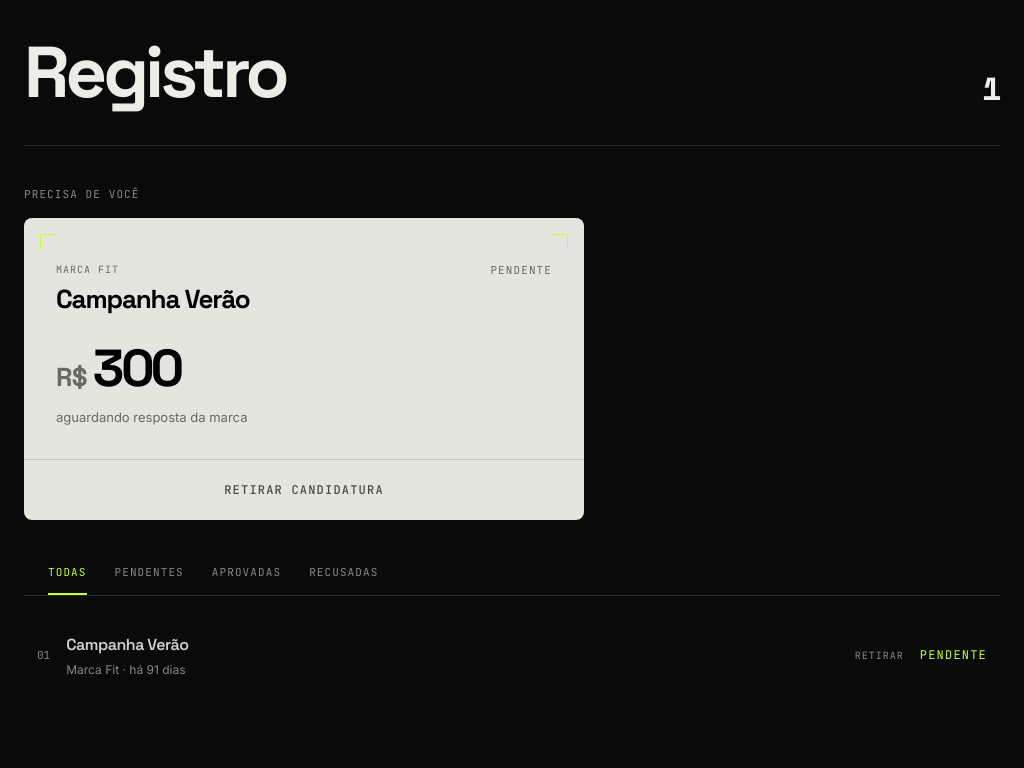
MyApplicationsPage › falha ao retirar mantém a confirmação aberta com o erro
Click the button "Retirar candidatura" at (304, 490), box 24,460 -> 584,520
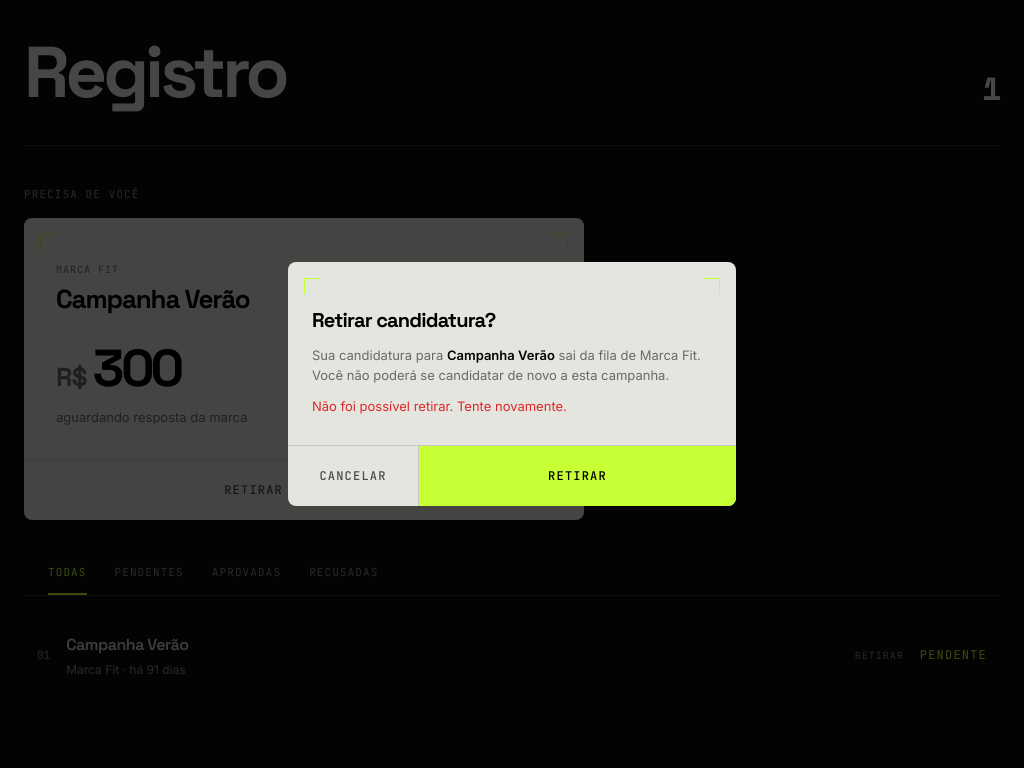
Expected: the text "Não foi possível retirar. Tente novamente." is shown, 312,398 -> 567,414
